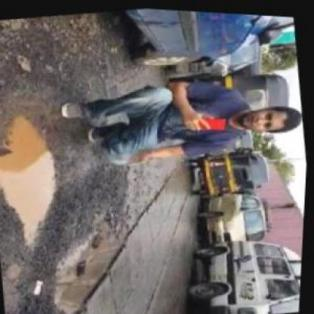Hueco: (0, 107, 75, 252), (45, 209, 138, 313)
